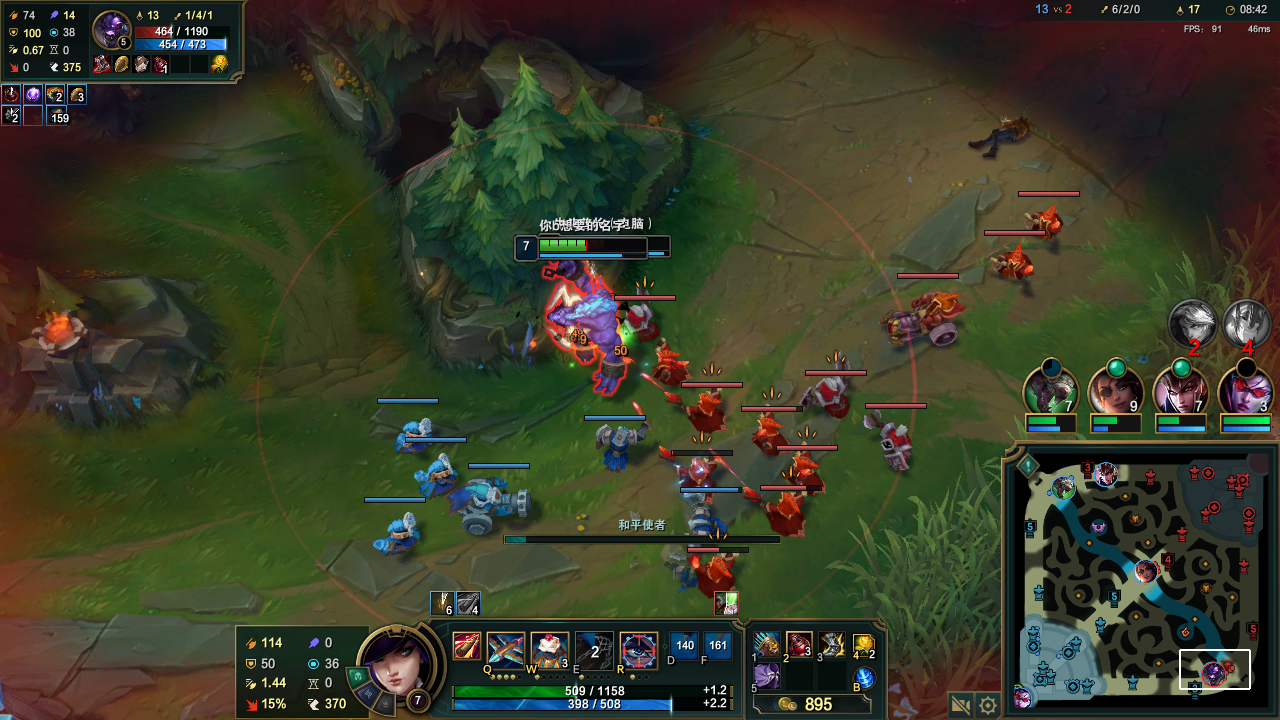DFXB: (883, 286, 957, 346), (986, 243, 1033, 284), (684, 391, 726, 434), (1022, 198, 1064, 235), (884, 423, 918, 466), (814, 375, 853, 412), (691, 551, 736, 582), (790, 454, 827, 489), (771, 502, 806, 538), (684, 453, 719, 489), (651, 346, 686, 380), (752, 414, 782, 447)
WFXB: (458, 475, 535, 537), (413, 445, 456, 498), (595, 418, 638, 464), (376, 516, 422, 550), (392, 417, 438, 449), (690, 511, 731, 536)
